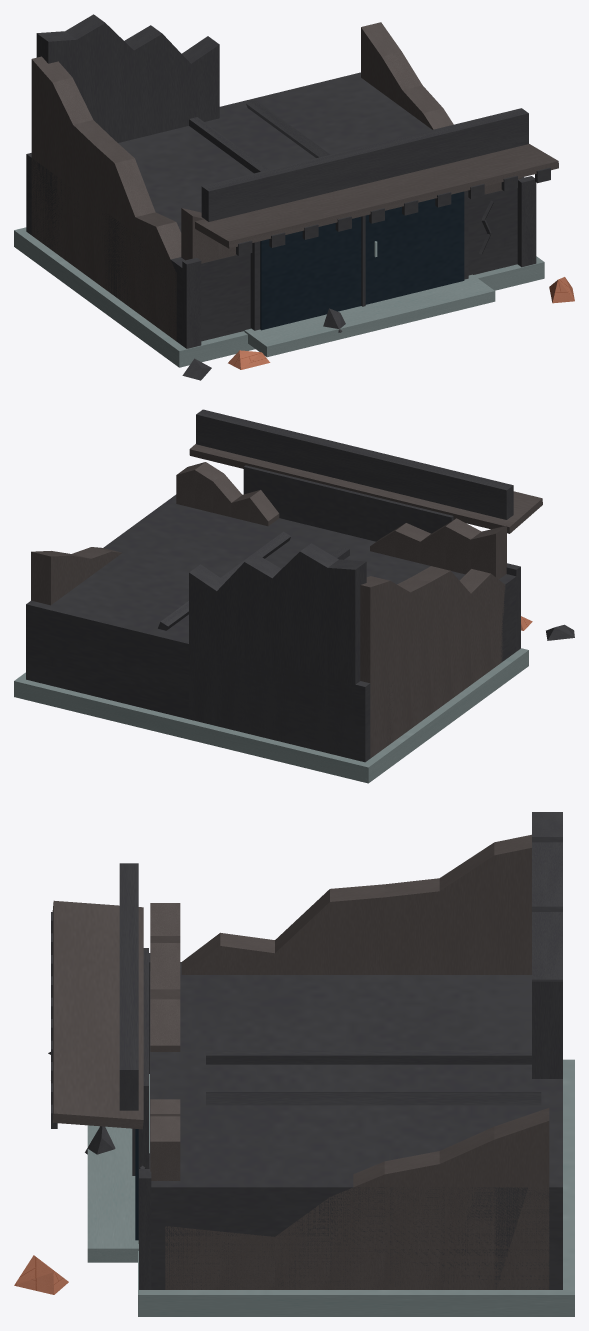
The model's file is corner-store-ruined-lod.glb.
The picture shows the model from 3 angles, top to bottom: view 1: azimuth 30°, elevation 25°; view 2: azimuth 150°, elevation 25°; view 3: azimuth 270°, elevation 25°; orthographic projection. The views are drawn at different scales.
Visible parts, largest first — view 1: corner-store-ruined-lod; view 2: corner-store-ruined-lod; view 3: corner-store-ruined-lod.
Boxes of the visible parts, x1=… form: corner-store-ruined-lod: x1=14, y1=14, x2=574, y2=380; corner-store-ruined-lod: x1=14, y1=409, x2=574, y2=783; corner-store-ruined-lod: x1=14, y1=812, x2=574, y2=1316.
Size of the model in its own units: 6.87 by 3.69 by 6.52.
Materials: 3 (3 with a texture image).
